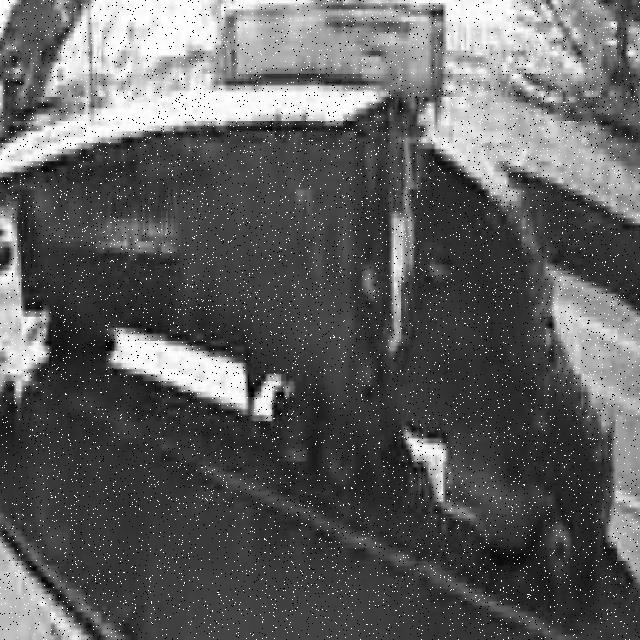Tractor Trailer: (13, 87, 618, 619)
